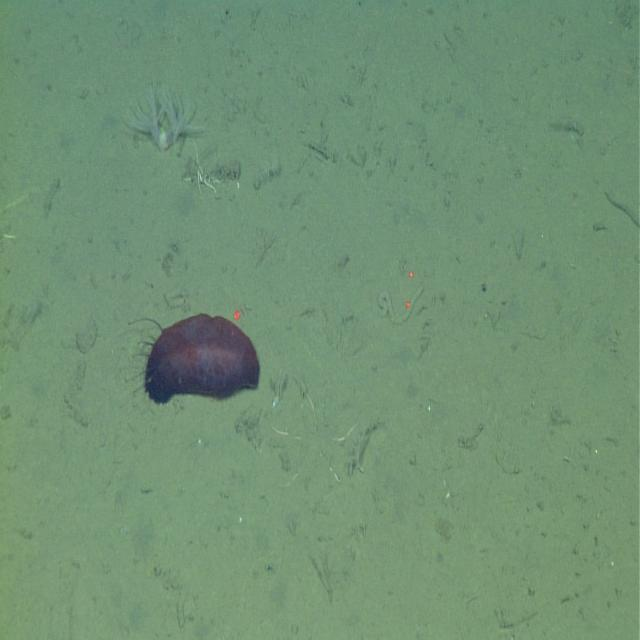Brittle Star: (270, 378, 365, 500)
Not Brittle Star: (125, 307, 264, 413)
